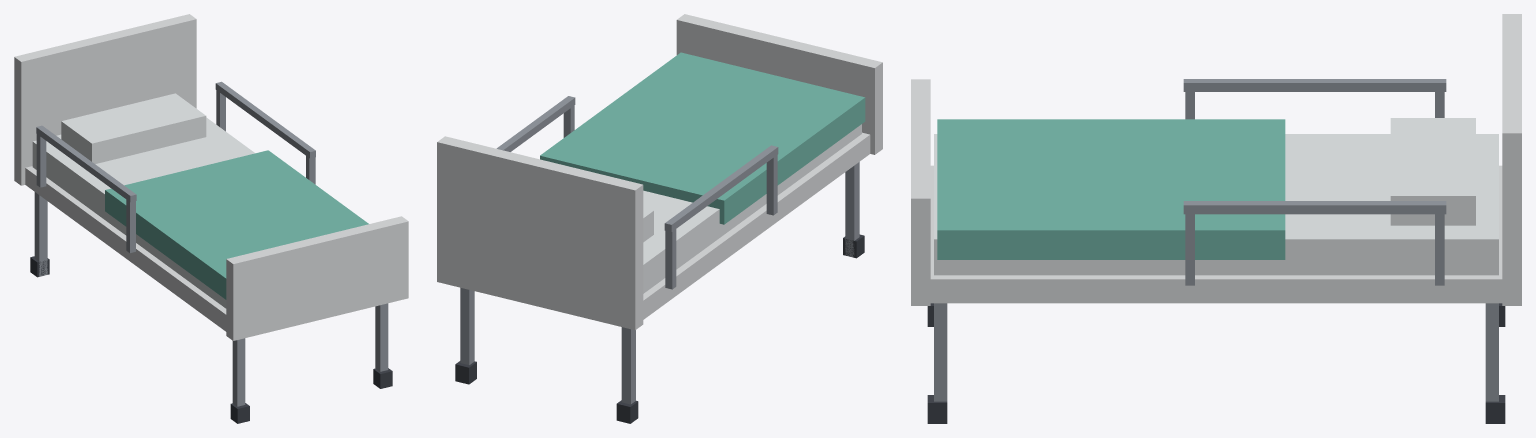
File: hos-leito.gltf
3 renders of one model, left to right at view 1: azimuth 30°, elevation 25°; view 2: azimuth 150°, elevation 25°; view 3: azimuth 270°, elevation 25°, orthographic. The views are drawn at different scales.
Parts seen in each view (by area): view 1: hos-leito; view 2: hos-leito; view 3: hos-leito.
Part boxes in pixels (box(x1,y1,x2,y2)): hos-leito: box(14, 14, 408, 423); hos-leito: box(437, 14, 882, 423); hos-leito: box(911, 14, 1521, 423).
Bounding box in the file's own units: 0.91 × 1 × 1.86.
